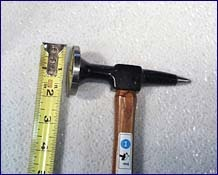hammer: (69, 40, 193, 175)
